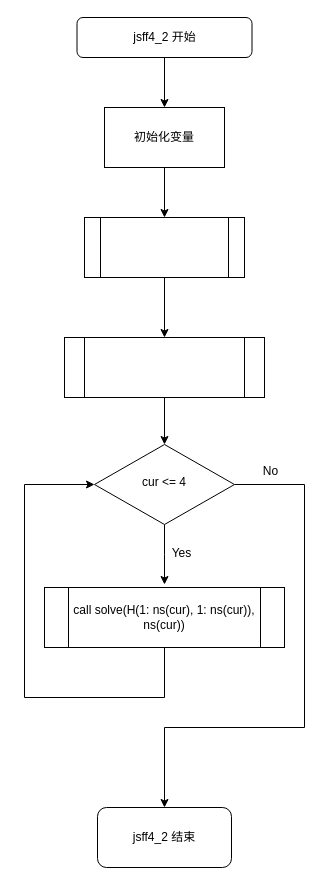
Image size: 330x885. Some labels were removed from this diagram. Each missing label, with the box of its shape:
call get_comb(C, n): (84, 216, 244, 278)
call get_H(H, H_inv, C, n): (64, 336, 264, 398)
